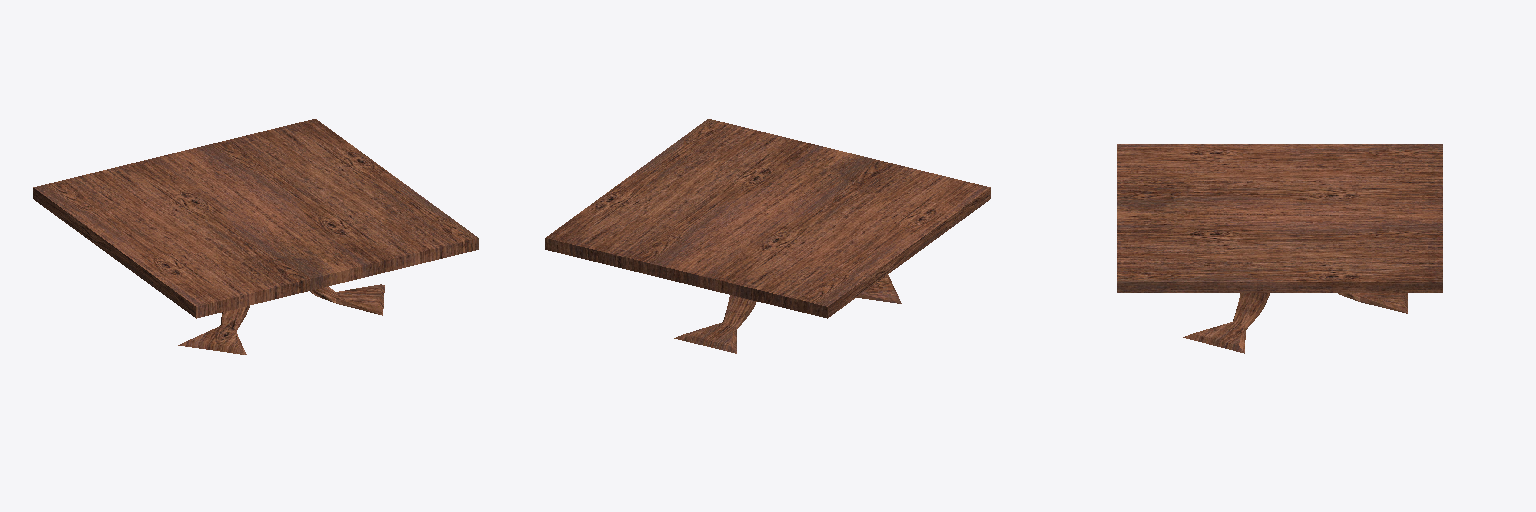
3 views of the same model, side by side, from view 1: azimuth 30°, elevation 25°; view 2: azimuth 150°, elevation 25°; view 3: azimuth 270°, elevation 25° (orthographic).
Visible parts, largest first — view 1: pCube7; view 2: pCube7; view 3: pCube7.
Boxes of the visible parts, x1,y1,x2,y2 form: pCube7: [33, 119, 478, 354]; pCube7: [545, 119, 990, 353]; pCube7: [1117, 144, 1442, 353].
Size of the model in its own units: 5 by 1.47 by 5.
Materials: 1 (1 with a texture image).